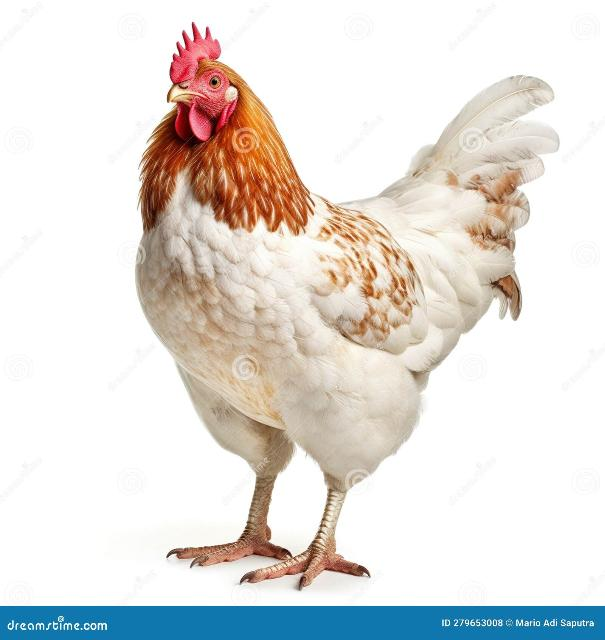Chicken: (131, 19, 560, 591)
